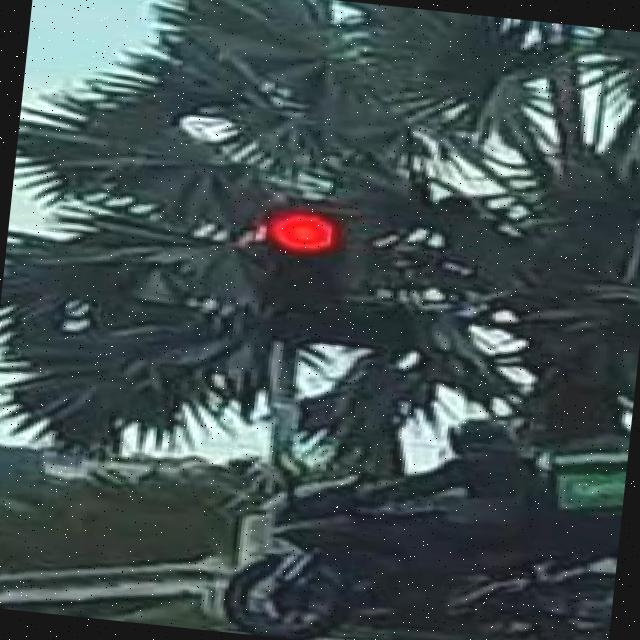red_light: (258, 204, 343, 339)
